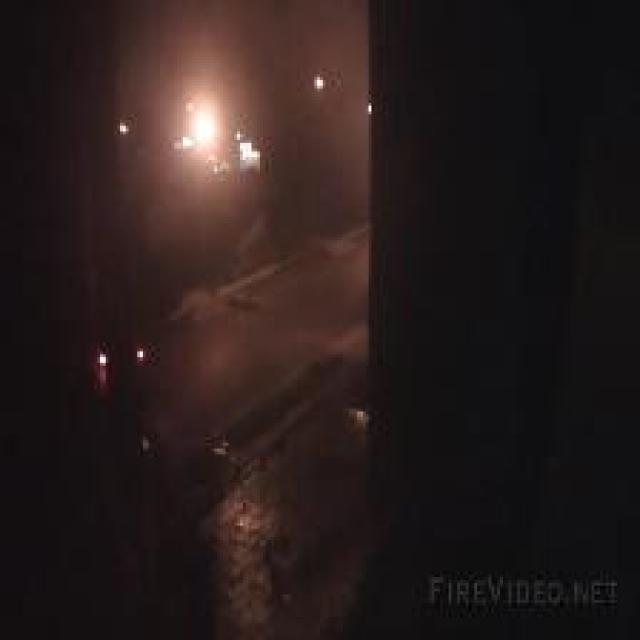other: (158, 88, 234, 164), (223, 119, 280, 182), (90, 341, 158, 366), (310, 73, 326, 94)
